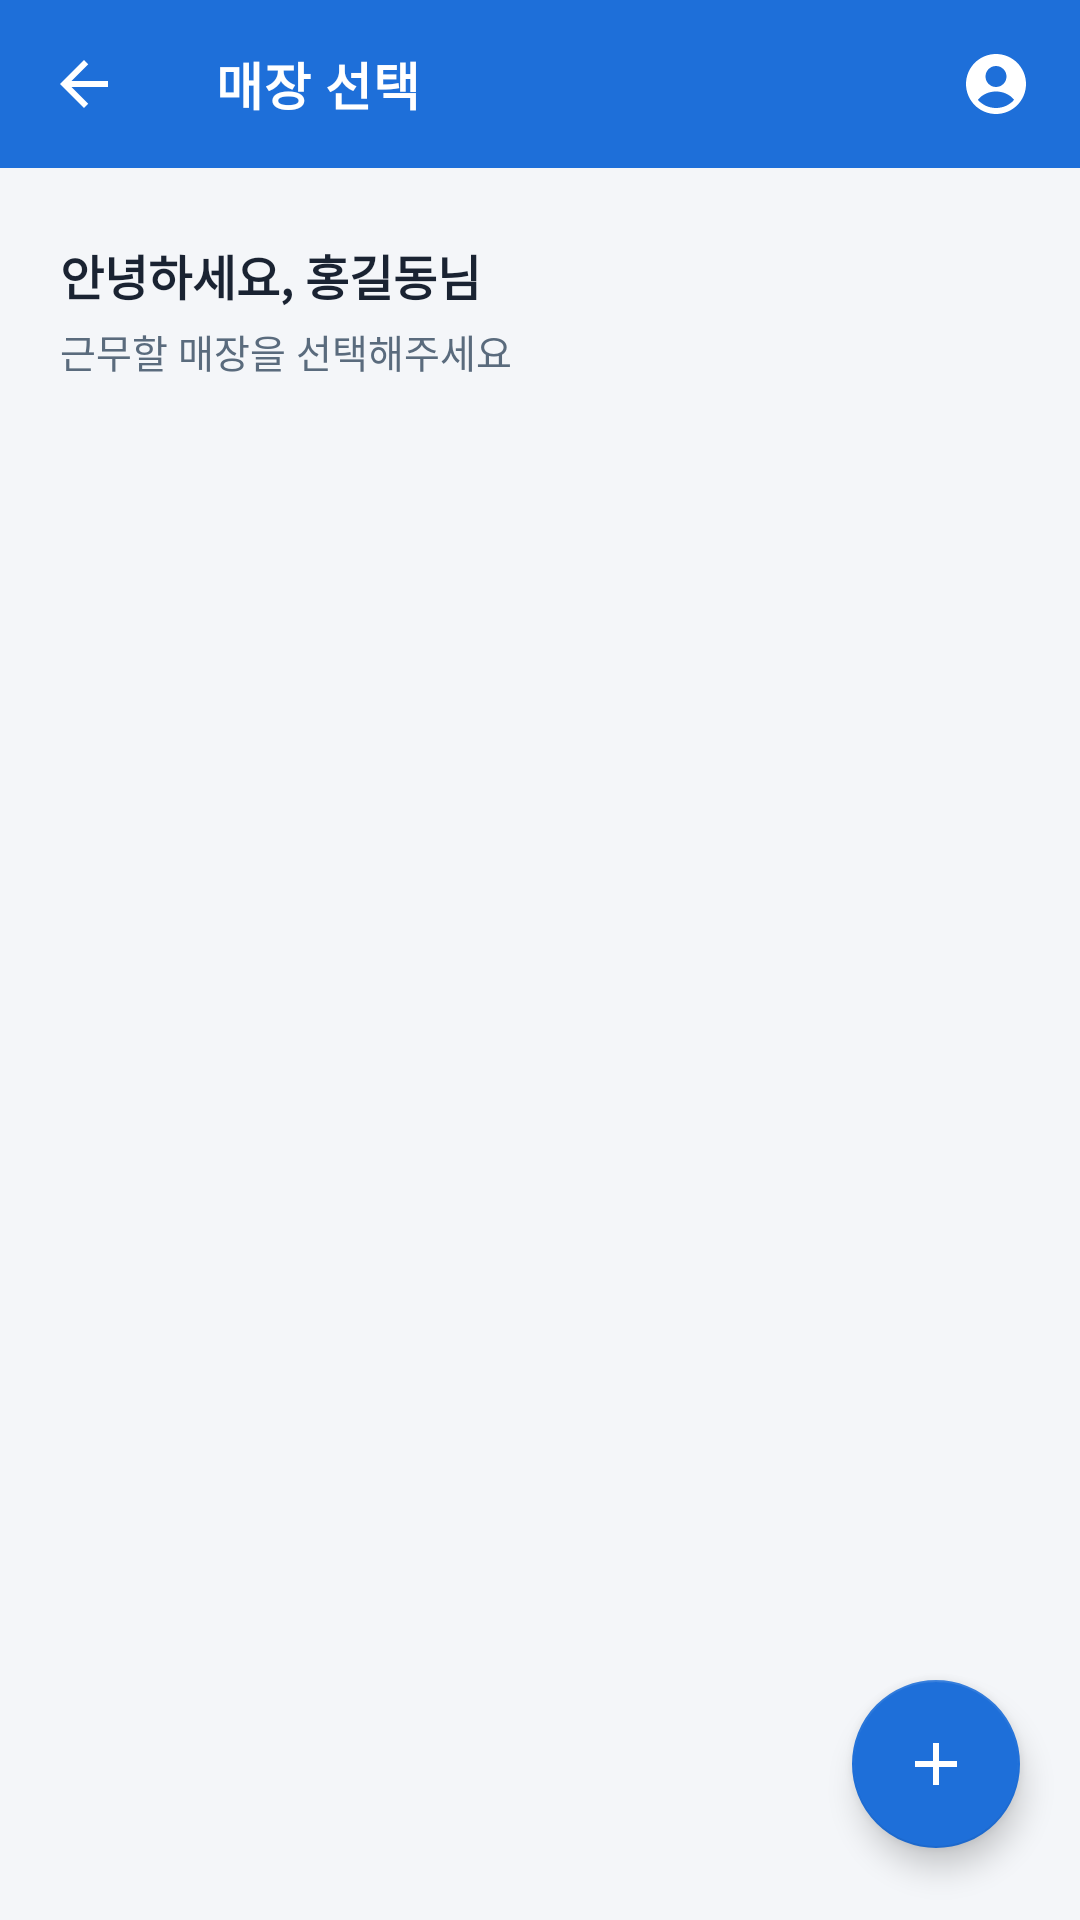

Icon click points for this 1080x1920 phone screenshot, format point (x, y):
마이페이지: point (996, 84)
매장 추가: point (936, 1764)
